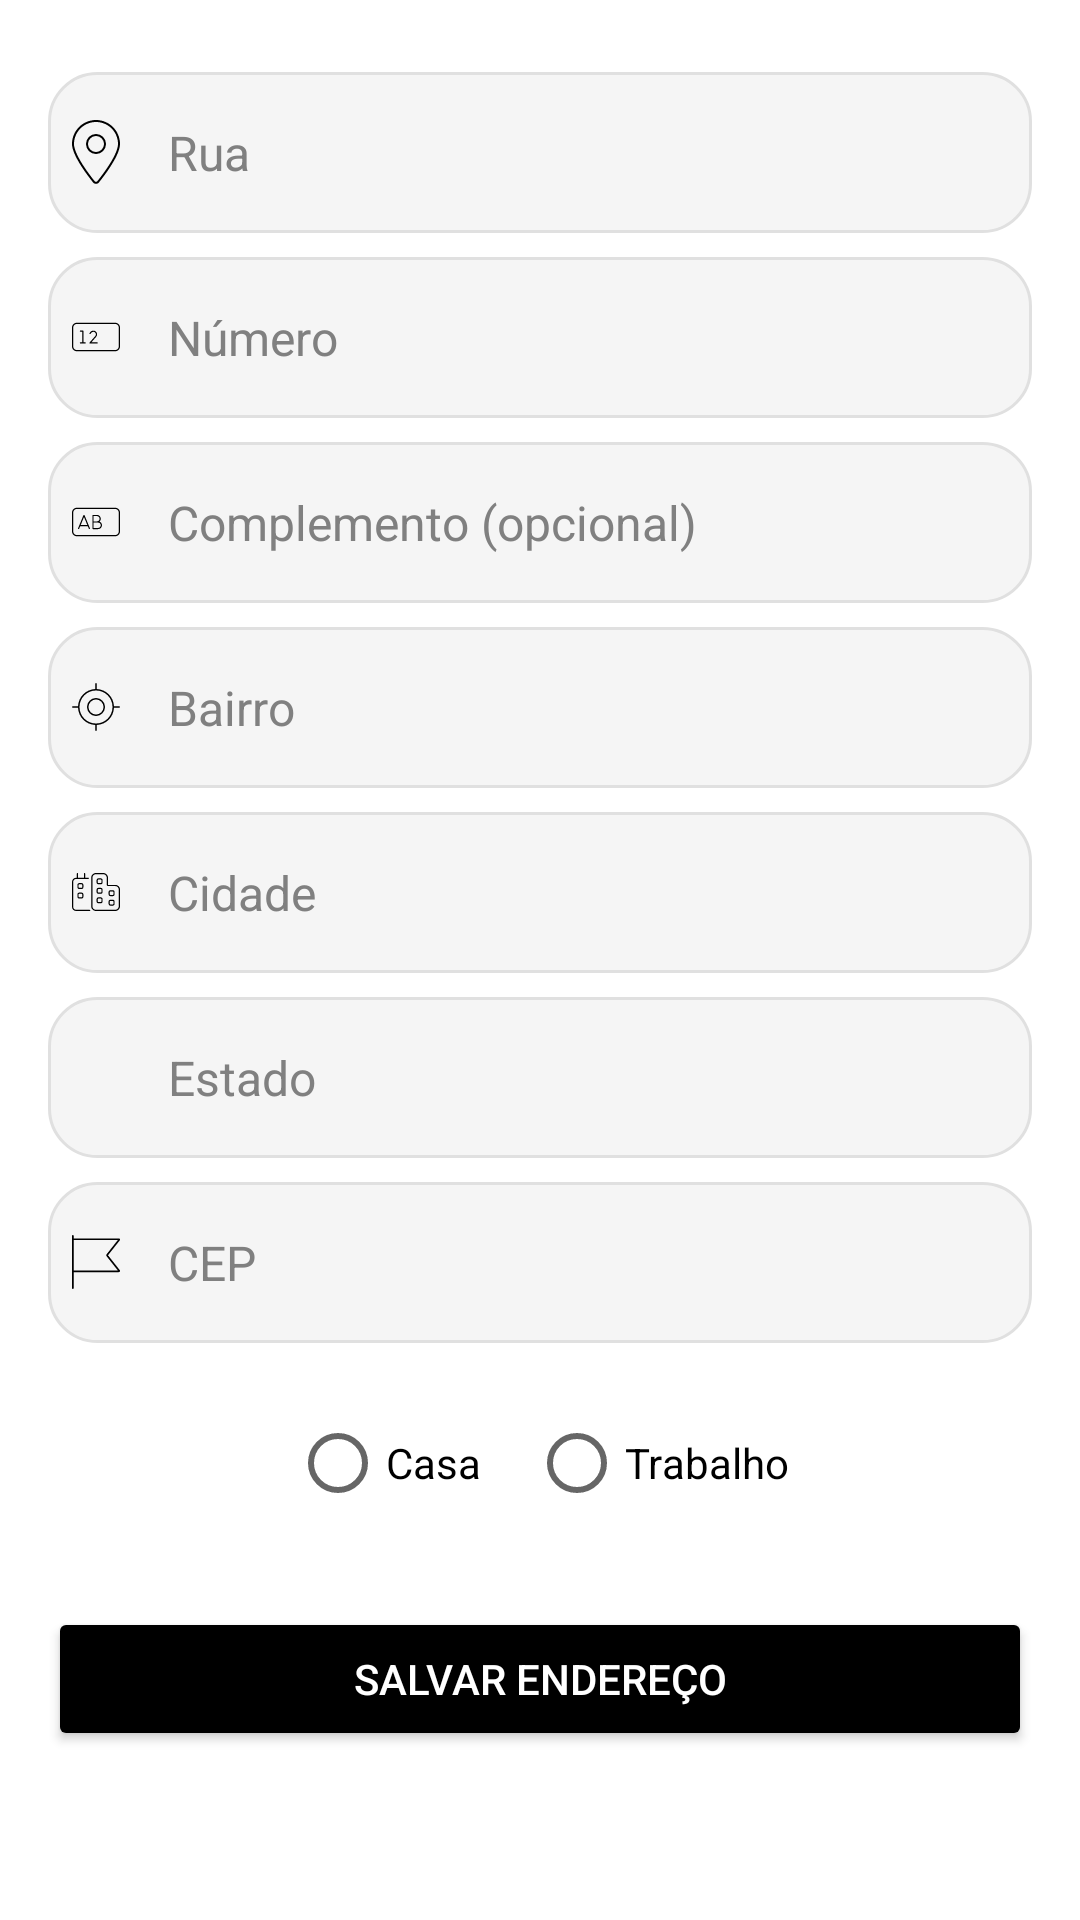

Icons on this 1080*1920 Android screen, each with the point to tap as (x,y):
city: (96,892)
number: (96,337)
street: (96,152)
